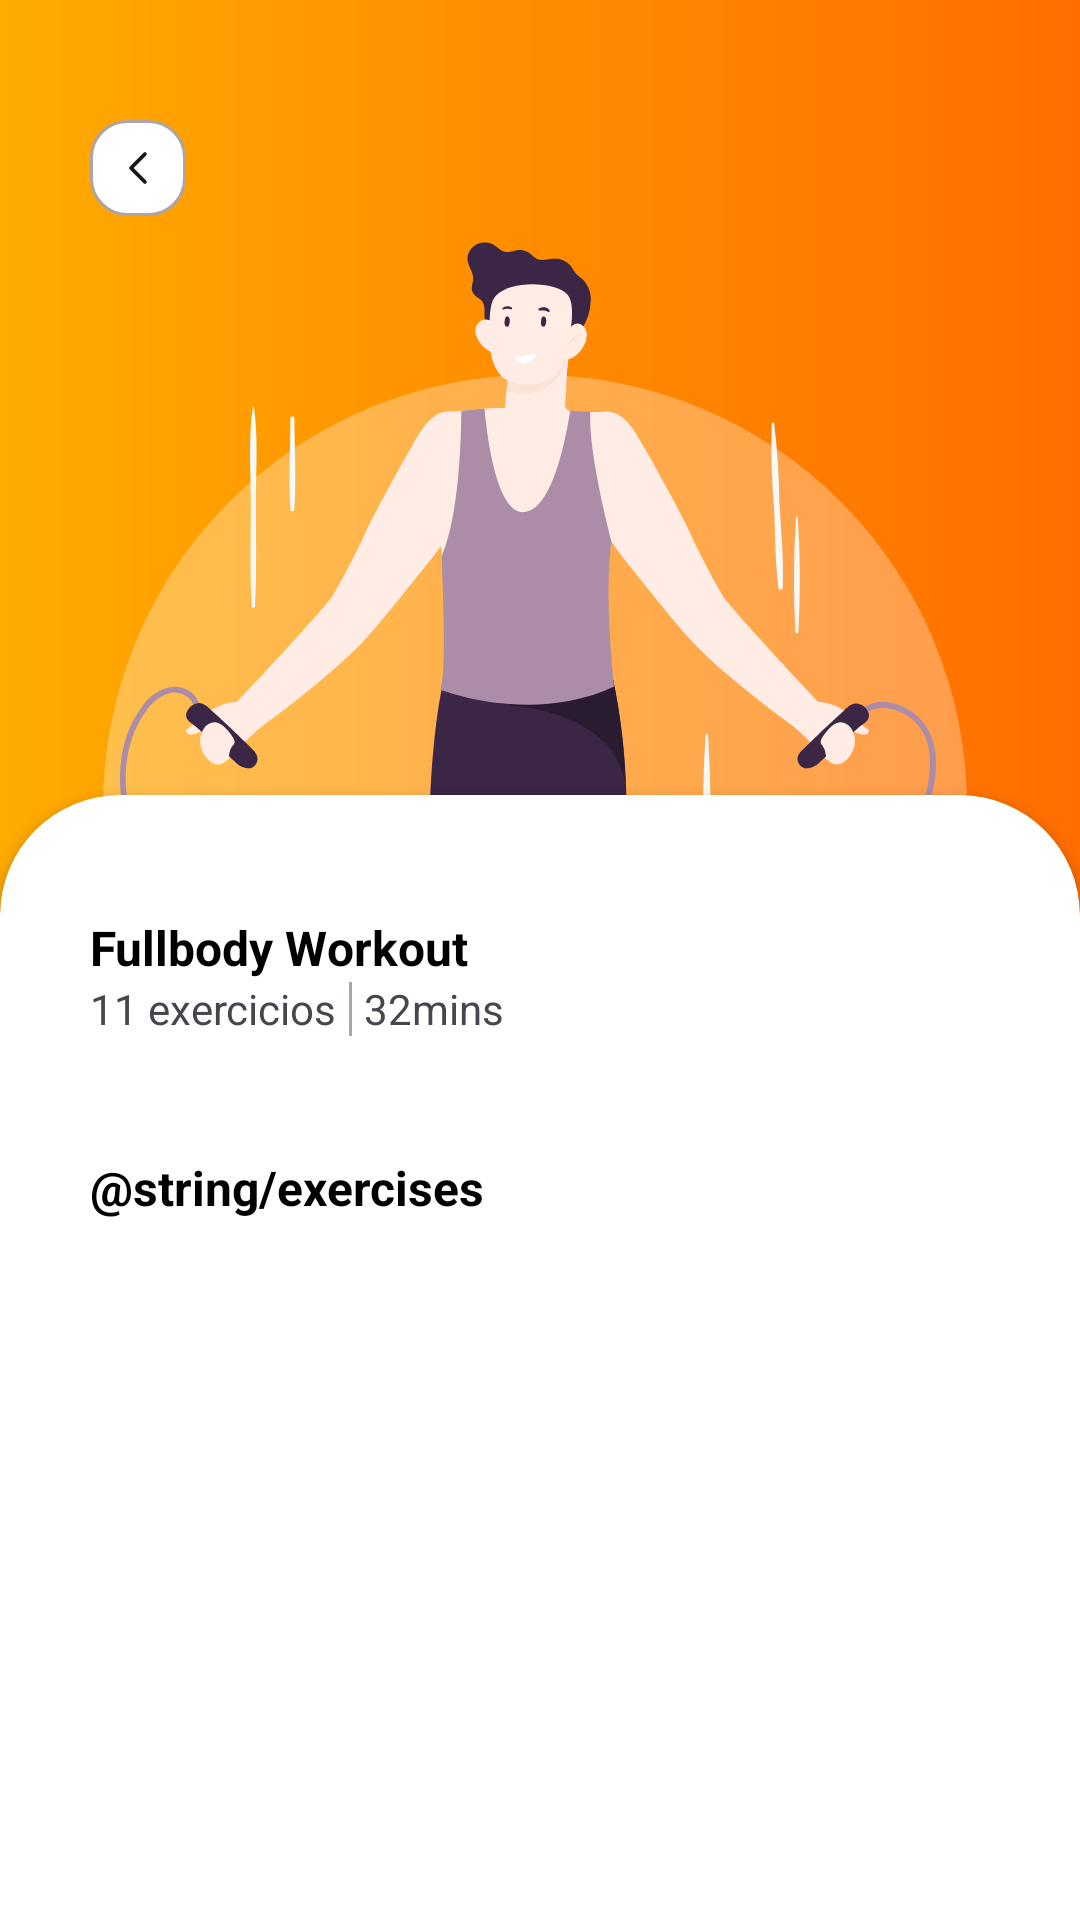

Icons on this 1080 × 1920 Android screen, each with the point to tap as [x,y]:
back left: [138,168]
